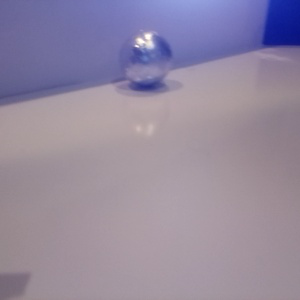alive_ball: (119, 32, 172, 87)
